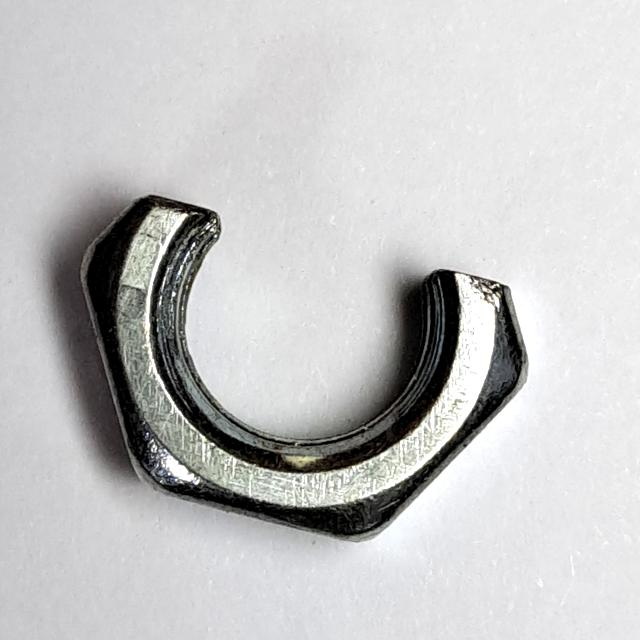Fracture: (70, 181, 544, 558)
